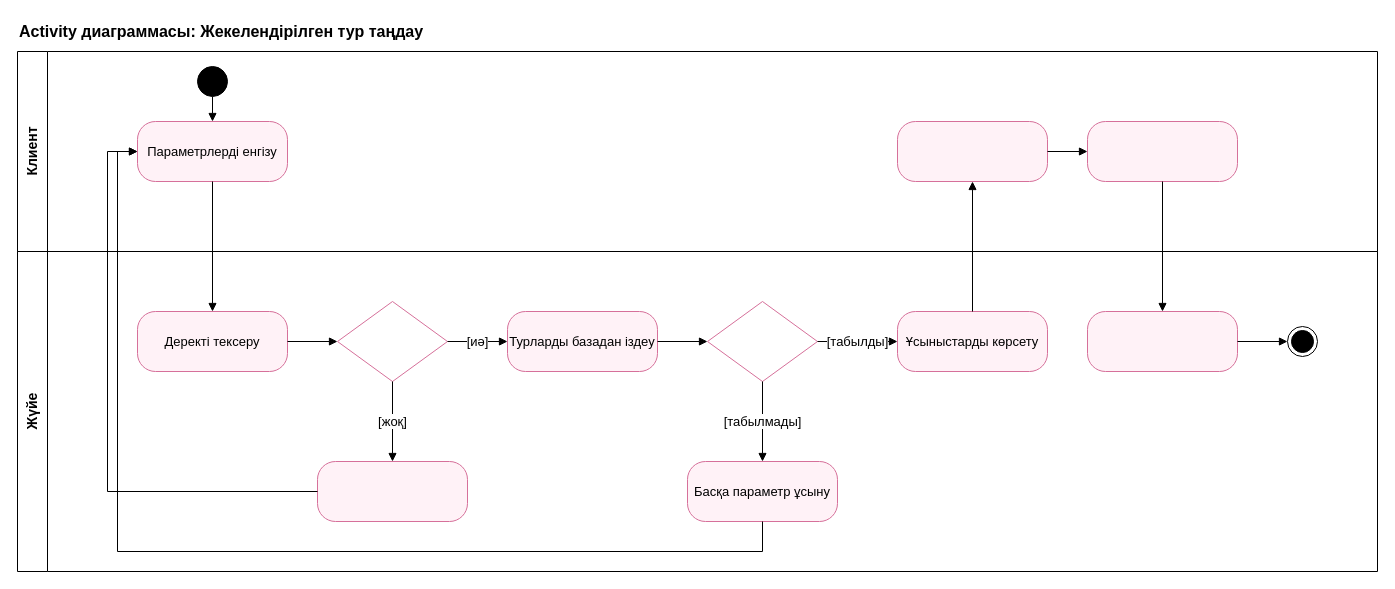
This 1395x589 diagram has some shape labels left out. Each missing label, with the centre of its shape:
"Тапсырысты растау" belongs at [1162,151].
"Тапсырысты сақтау" belongs at [1162,341].
"Турды таңдау" belongs at [972,151].
"Қате көрсету" belongs at [392,491].
